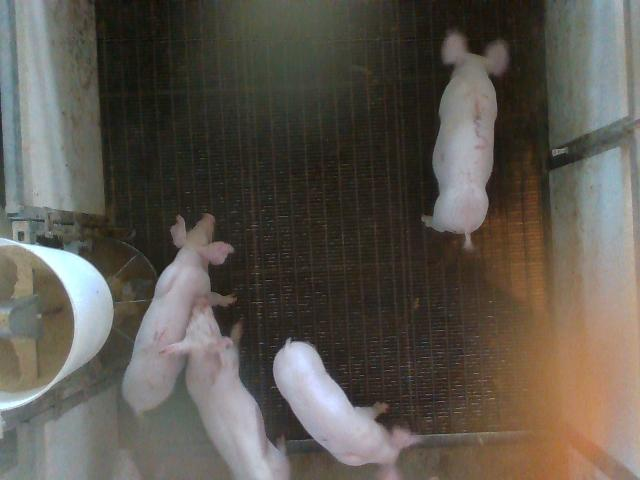pig-3: (421, 31, 509, 249)
